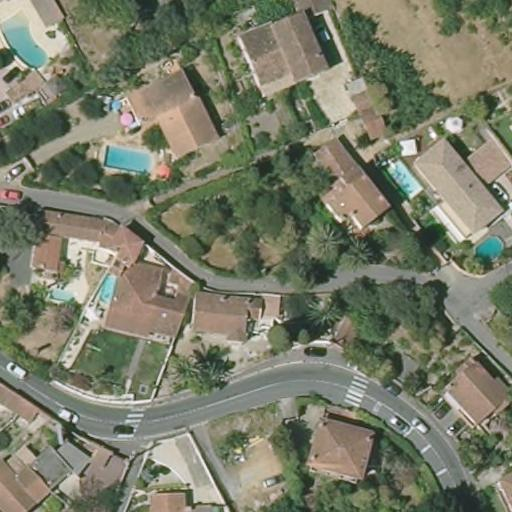pool: (0, 10, 53, 68), (375, 153, 428, 203), (96, 138, 160, 178), (465, 229, 506, 264), (97, 268, 123, 305), (43, 282, 78, 308)
